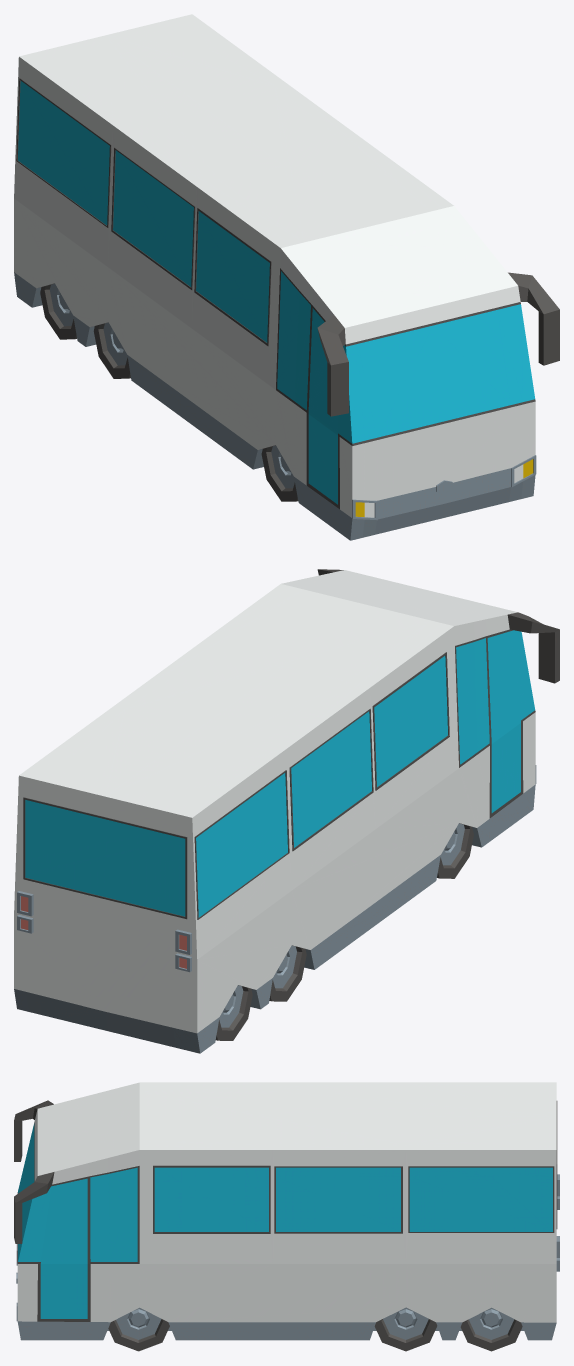
Rendered from bus.glb.
3 views of the same model, one above another, from view 1: azimuth 30°, elevation 25°; view 2: azimuth 150°, elevation 25°; view 3: azimuth 270°, elevation 25° (orthographic). The views are drawn at different scales.
Visible parts, largest first — view 1: bus_Cube.027; view 2: bus_Cube.027; view 3: bus_Cube.027.
Part boxes in pixels (left/top/right/bottom): bus_Cube.027: left=14, top=14, right=559, bottom=540; bus_Cube.027: left=14, top=569, right=559, bottom=1053; bus_Cube.027: left=14, top=1082, right=559, bottom=1351.
Bounding box in the file's own units: 9.16 × 9.68 × 23.75.
Materials: 1 (1 with a texture image).
